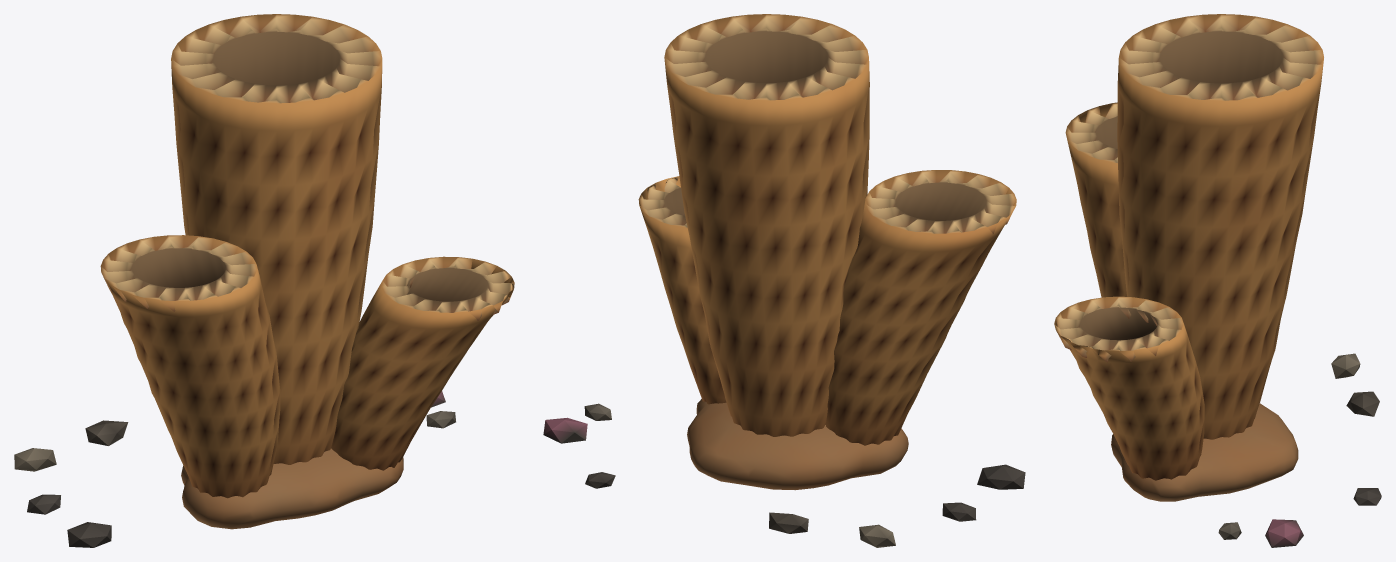
File: Metaldetes.fbx
3 views of the same model, side by side, from view 1: azimuth 30°, elevation 25°; view 2: azimuth 150°, elevation 25°; view 3: azimuth 270°, elevation 25° (orthographic). The views are drawn at different scales.
Visible parts, largest first — view 1: Metaldetes; view 2: Metaldetes; view 3: Metaldetes.
Part boxes in pixels (bbox=[...]): Metaldetes: bbox=[14, 14, 514, 547]; Metaldetes: bbox=[543, 14, 1025, 547]; Metaldetes: bbox=[1054, 14, 1381, 547].
Bounding box in the file's own units: 1.28 × 1.22 × 0.8615.
